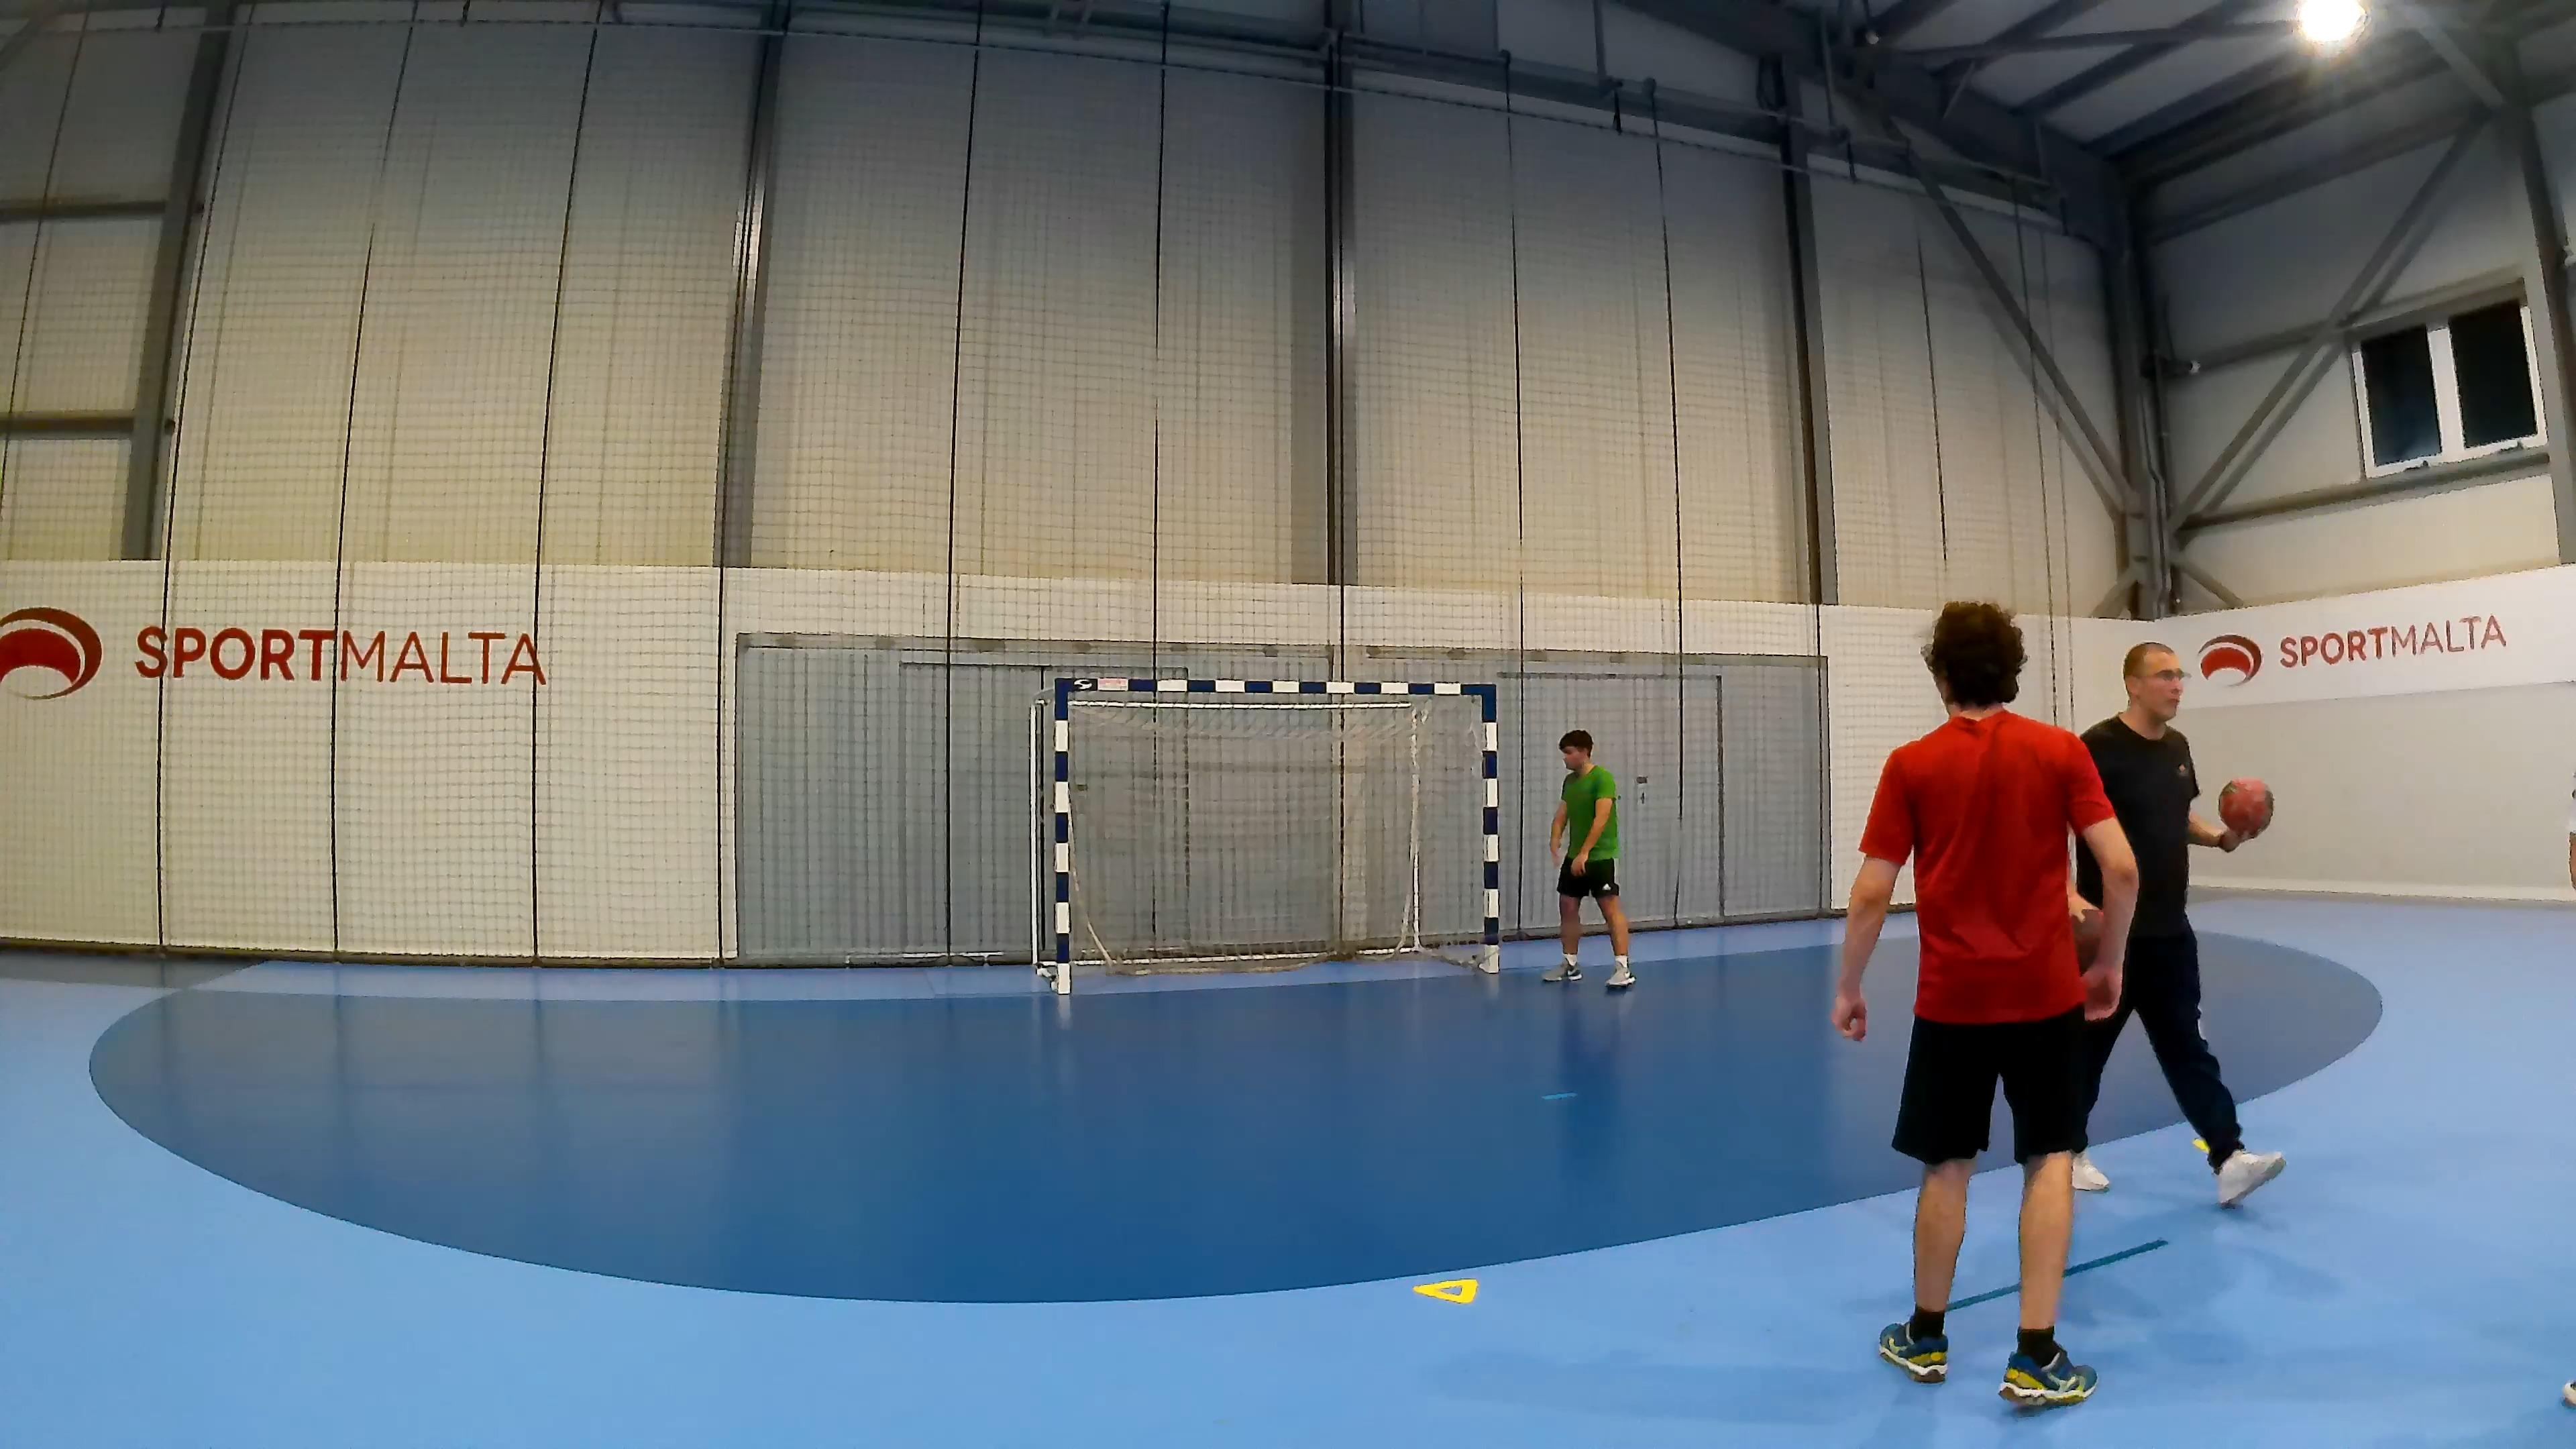handball: (2217, 777, 2273, 837)
